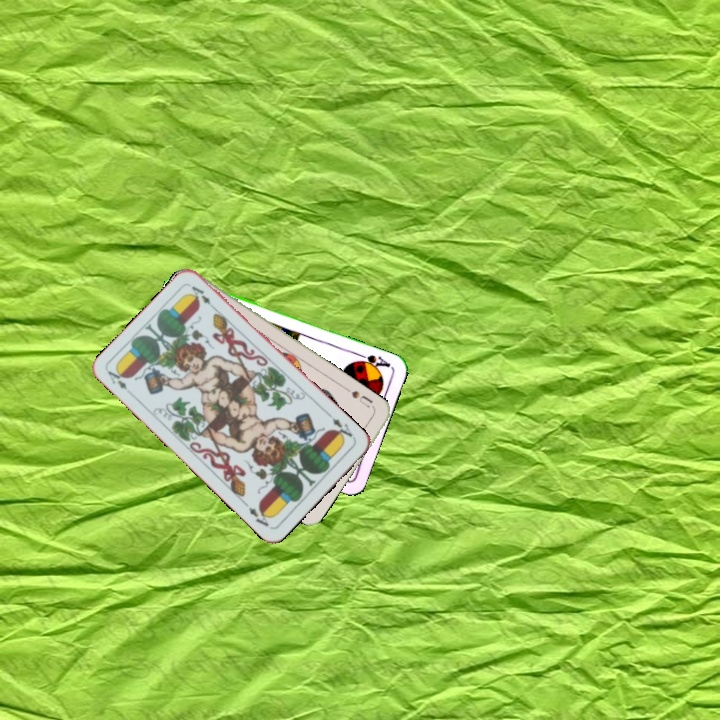EA: (324, 410, 357, 442), (103, 365, 130, 393)
SA: (352, 349, 393, 373)
SU: (347, 386, 375, 411)
